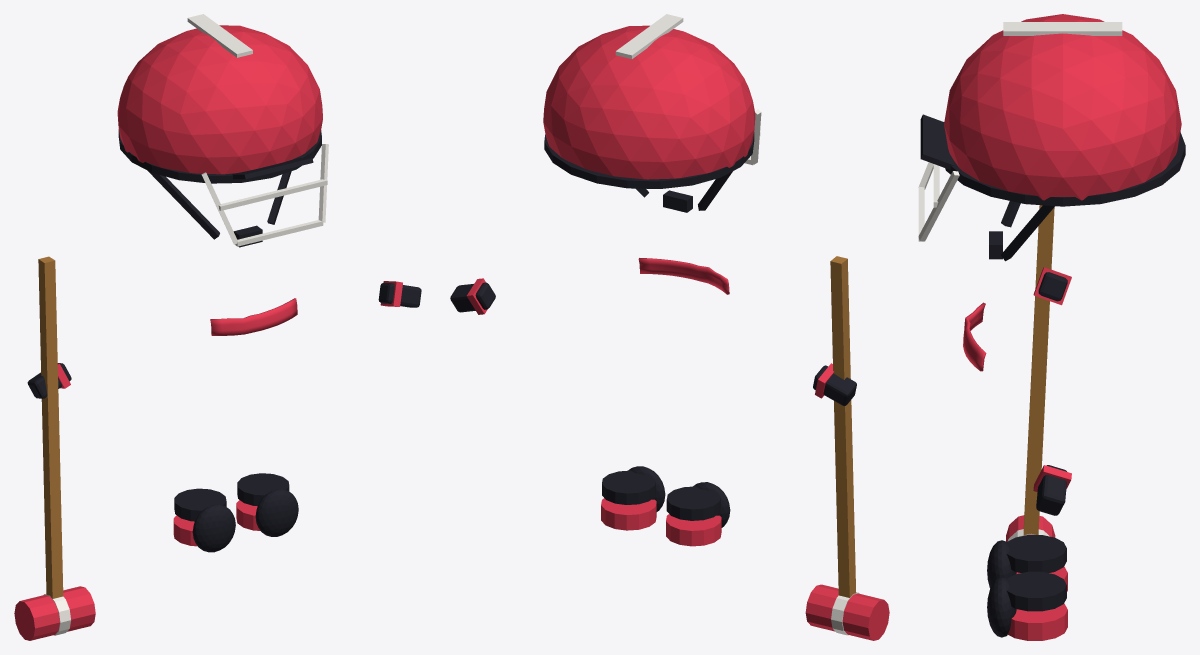
File: Outfit_BikePolo.fbx
3 renders of one model, left to right at view 1: azimuth 30°, elevation 25°; view 2: azimuth 150°, elevation 25°; view 3: azimuth 270°, elevation 25°, orthographic. The views are drawn at different scales.
Visible parts, largest first — view 1: Helmet__Head.002, Mallet__hand.R, KneePadR__shin.R.002, KneePadL__shin.L.002, Faceguard__Head, JerseyStripe__spine.002, GloveL__hand.L.002, GloveR__hand.R.002; view 2: Helmet__Head.002, Mallet__hand.R, KneePadR__shin.R.002, KneePadL__shin.L.002, JerseyStripe__spine.002, GloveL__hand.L.002, GloveR__hand.R.002; view 3: Helmet__Head.002, Mallet__hand.R, KneePadL__shin.L.002, KneePadR__shin.R.002, Faceguard__Head, GloveL__hand.L.002, GloveR__hand.R.002, JerseyStripe__spine.002.
Part boxes in pixels (bbox=[...]): Helmet__Head.002: bbox=[117, 14, 322, 247]; Mallet__hand.R: bbox=[14, 256, 95, 640]; KneePadR__shin.R.002: bbox=[173, 488, 235, 552]; KneePadL__shin.L.002: bbox=[236, 473, 298, 536]; Faceguard__Head: bbox=[201, 144, 328, 246]; JerseyStripe__spine.002: bbox=[210, 298, 297, 335]; GloveL__hand.L.002: bbox=[378, 281, 421, 307]; GloveR__hand.R.002: bbox=[27, 363, 71, 398]; Helmet__Head.002: bbox=[543, 14, 755, 212]; Mallet__hand.R: bbox=[805, 256, 889, 640]; KneePadR__shin.R.002: bbox=[666, 482, 730, 546]; KneePadL__shin.L.002: bbox=[601, 466, 665, 530]; JerseyStripe__spine.002: bbox=[638, 258, 729, 294]; GloveL__hand.L.002: bbox=[450, 278, 495, 314]; GloveR__hand.R.002: bbox=[813, 363, 856, 405]; Helmet__Head.002: bbox=[920, 14, 1185, 261]; Mallet__hand.R: bbox=[1006, 205, 1055, 541]; KneePadL__shin.L.002: bbox=[987, 571, 1067, 640]; KneePadR__shin.R.002: bbox=[987, 535, 1067, 591]; Faceguard__Head: bbox=[918, 162, 959, 241]; GloveL__hand.L.002: bbox=[1033, 465, 1071, 515]; GloveR__hand.R.002: bbox=[1033, 267, 1071, 305]; JerseyStripe__spine.002: bbox=[963, 302, 986, 371].
Size of the model in its own units: 1.13 by 1.46 by 0.5399.
